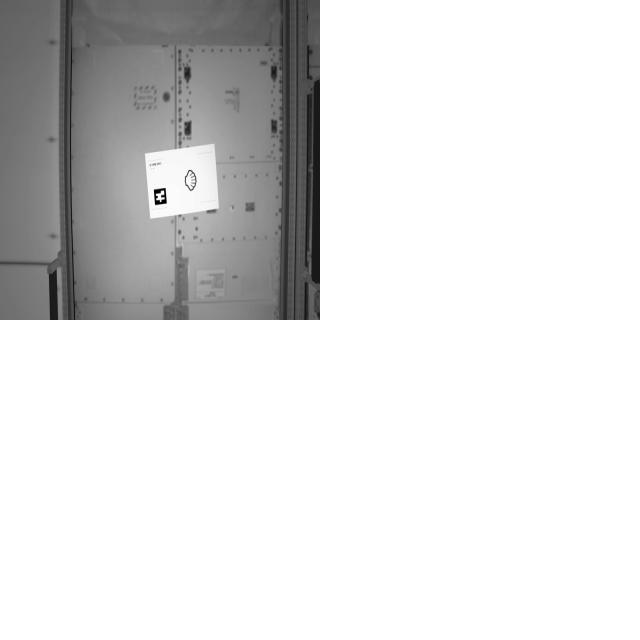shell: (183, 166, 200, 193)
